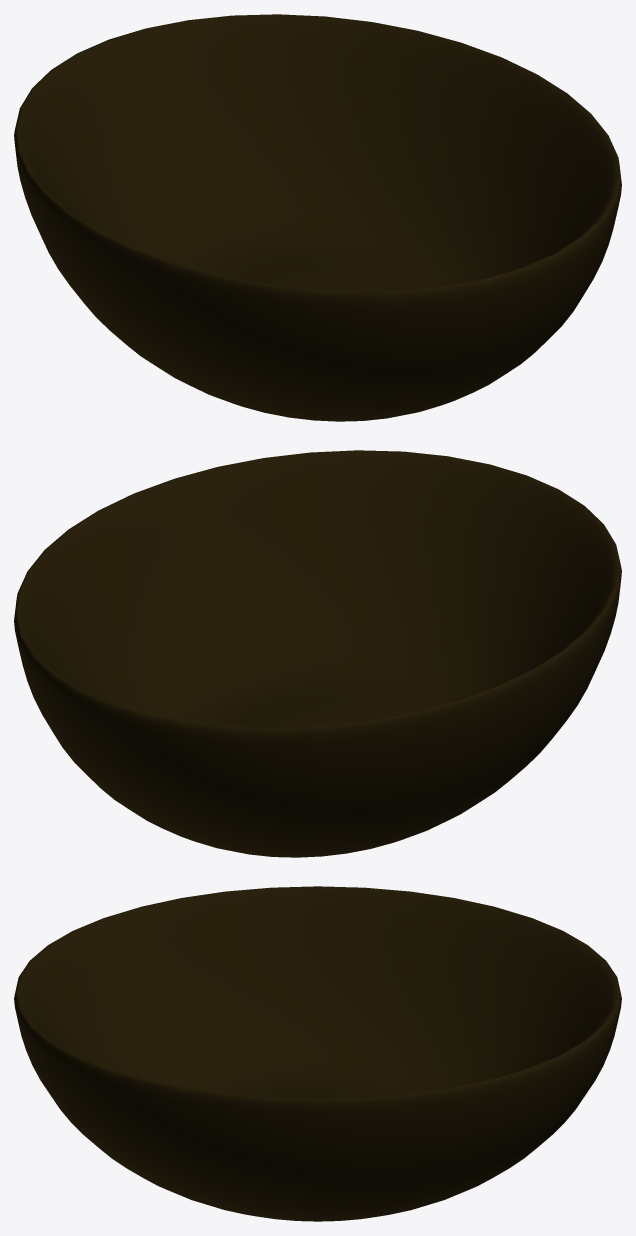
File: Fruit_Basket.fbx
3 renders of one model, top to bottom at view 1: azimuth 30°, elevation 25°; view 2: azimuth 150°, elevation 25°; view 3: azimuth 270°, elevation 25°, orthographic. The views are drawn at different scales.
Visible parts, largest first — view 1: polySurface35; view 2: polySurface35; view 3: polySurface35.
Part boxes in pixels (left/top/right/bottom): polySurface35: left=14, top=14, right=621, bottom=421; polySurface35: left=14, top=450, right=621, bottom=857; polySurface35: left=14, top=886, right=621, bottom=1221.
Bounding box in the file's own units: 1.97 × 0.8697 × 2.35.
